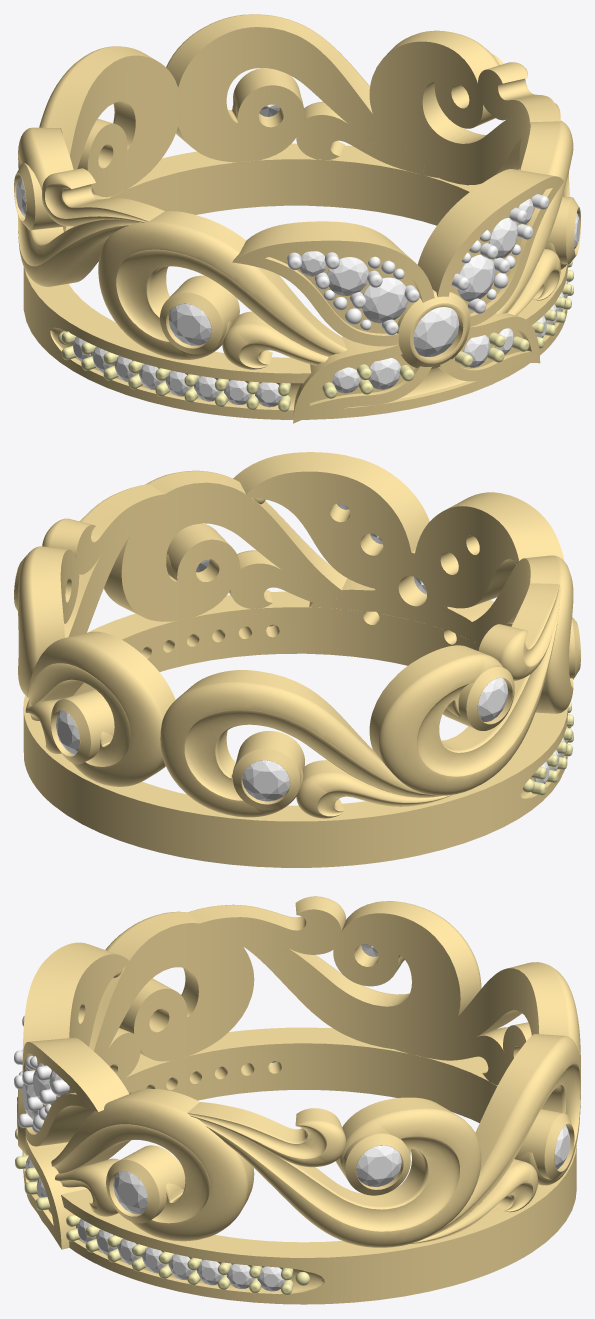
The picture shows the model from 3 angles, top to bottom: view 1: azimuth 30°, elevation 25°; view 2: azimuth 150°, elevation 25°; view 3: azimuth 270°, elevation 25°; orthographic projection.
Visible parts, largest first — view 1: Object_2_WhiteMetal_0, Object_18_WhiteMetal_0, Object_10_WhiteMetal_0, Object_15_WhiteMetal_0, Object_11_WhiteMetal_0, Object_4_WhiteMetal_0, Object_5_WhiteMetal_0, Object_14_WhiteMetal_0, Object_3_WhiteMetal_0, Object_19_WhiteMetal_0, Object_13_WhiteMetal_0, Object_17_WhiteMetal_0 (+22 smaller); view 2: Object_2_WhiteMetal_0, Object_19_WhiteMetal_0, Object_11_WhiteMetal_0, Object_14_WhiteMetal_0, Object_5_WhiteMetal_0, Object_18_WhiteMetal_0, Object_4_WhiteMetal_0, Object_15_WhiteMetal_0, Object_10_WhiteMetal_0, Object_13_WhiteMetal_0, Object_16_WhiteMetal_0, Object_12_WhiteMetal_0 (+13 smaller); view 3: Object_2_WhiteMetal_0, Object_14_WhiteMetal_0, Object_15_WhiteMetal_0, Object_10_WhiteMetal_0, Object_19_WhiteMetal_0, Object_18_WhiteMetal_0, Object_11_WhiteMetal_0, Object_4_WhiteMetal_0, Object_5_WhiteMetal_0, Object_16_WhiteMetal_0, Object_13_WhiteMetal_0, Bezel_7 (+12 smaller).
Part boxes in pixels (x1,y1,x2,y2): Object_2_WhiteMetal_0: [23, 143, 567, 419]; Object_18_WhiteMetal_0: [166, 14, 441, 178]; Object_10_WhiteMetal_0: [98, 211, 347, 359]; Object_15_WhiteMetal_0: [369, 30, 530, 185]; Object_11_WhiteMetal_0: [39, 46, 178, 227]; Object_4_WhiteMetal_0: [232, 221, 434, 346]; Object_5_WhiteMetal_0: [417, 169, 564, 326]; Object_14_WhiteMetal_0: [18, 127, 138, 286]; Object_3_WhiteMetal_0: [293, 336, 431, 423]; Object_19_WhiteMetal_0: [496, 120, 573, 313]; Object_13_WhiteMetal_0: [42, 168, 164, 226]; Object_17_WhiteMetal_0: [296, 101, 440, 178]; Object_2_WhiteMetal_0: [23, 591, 567, 867]; Object_19_WhiteMetal_0: [104, 470, 379, 621]; Object_11_WhiteMetal_0: [160, 670, 442, 817]; Object_14_WhiteMetal_0: [369, 605, 559, 795]; Object_5_WhiteMetal_0: [233, 452, 429, 589]; Object_18_WhiteMetal_0: [27, 631, 175, 786]; Object_4_WhiteMetal_0: [413, 492, 564, 608]; Object_15_WhiteMetal_0: [18, 493, 176, 695]; Object_10_WhiteMetal_0: [444, 555, 573, 713]; Object_13_WhiteMetal_0: [478, 583, 560, 680]; Object_16_WhiteMetal_0: [42, 484, 175, 574]; Object_12_WhiteMetal_0: [296, 760, 452, 818]; Object_2_WhiteMetal_0: [39, 1027, 576, 1304]; Object_14_WhiteMetal_0: [188, 901, 481, 1049]; Object_15_WhiteMetal_0: [198, 1097, 481, 1247]; Object_10_WhiteMetal_0: [89, 911, 254, 1061]; Object_19_WhiteMetal_0: [51, 1088, 254, 1241]; Object_18_WhiteMetal_0: [428, 1034, 580, 1237]; Object_11_WhiteMetal_0: [390, 962, 580, 1074]; Object_4_WhiteMetal_0: [22, 942, 131, 1059]; Object_5_WhiteMetal_0: [22, 1037, 128, 1146]; Object_16_WhiteMetal_0: [187, 1102, 345, 1167]; Object_13_WhiteMetal_0: [187, 896, 345, 954]; Bezel_7: [106, 1145, 185, 1223].
Size of the model in its own units: 0.0197 by 0.00707 by 0.0199.
